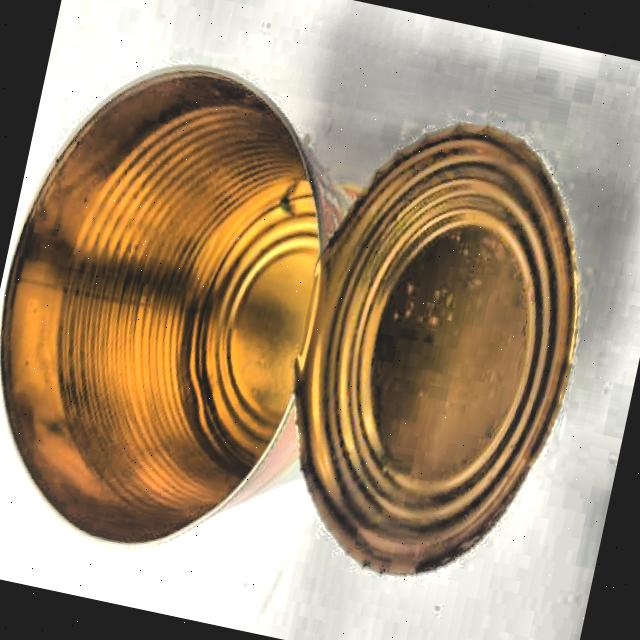metal: (0, 29, 615, 630)
